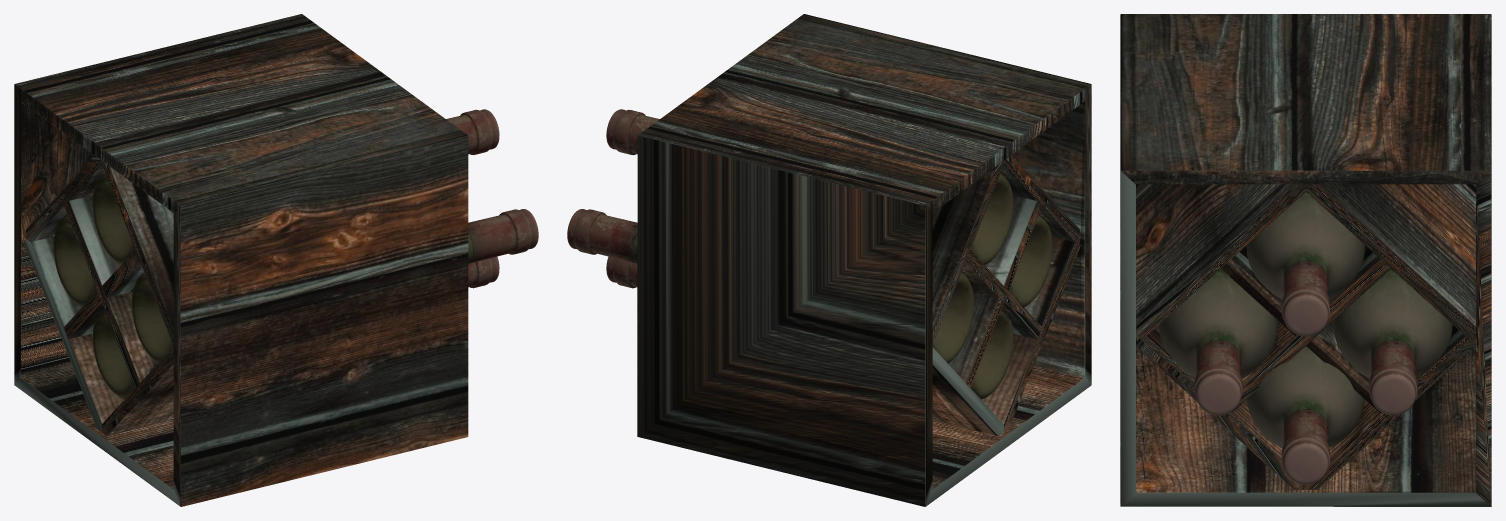
Rendered from Wine1.fbx.
3 renders of one model, left to right at view 1: azimuth 30°, elevation 25°; view 2: azimuth 150°, elevation 25°; view 3: azimuth 270°, elevation 25°, orthographic. The views are drawn at different scales.
Visible parts, largest first — view 1: Rustic Wood Lattice Wine Rack, Окружность.008, Окружность.007, Окружность.009, Окружность, Окружность.005, Окружность.001, Окружность.004; view 2: Rustic Wood Lattice Wine Rack, Окружность.006, Окружность.009, Окружность.007, Окружность, Окружность.005, Окружность.001, Окружность.004; view 3: Rustic Wood Lattice Wine Rack, Окружность.009, Окружность.007, Окружность, Окружность.005, Окружность.001, Окружность.004, Окружность.006, Окружность.008.
Boxes of the visible parts, x1,y1,x2,y2 form: Rustic Wood Lattice Wine Rack: [14, 14, 468, 506]; Окружность.008: [468, 209, 538, 263]; Окружность.007: [53, 215, 97, 306]; Окружность.009: [132, 233, 473, 363]; Окружность: [92, 174, 135, 264]; Окружность.005: [92, 311, 135, 399]; Окружность.001: [446, 109, 499, 154]; Окружность.004: [468, 256, 499, 288]; Rustic Wood Lattice Wine Rack: [637, 14, 1091, 506]; Окружность.006: [567, 209, 637, 263]; Окружность.009: [1009, 215, 1052, 307]; Окружность.007: [632, 233, 974, 363]; Окружность: [970, 174, 1013, 264]; Окружность.005: [970, 311, 1013, 399]; Окружность.001: [606, 109, 659, 155]; Окружность.004: [606, 256, 637, 288]; Rustic Wood Lattice Wine Rack: [1120, 14, 1491, 506]; Окружность.009: [1159, 269, 1277, 378]; Окружность.007: [1334, 269, 1452, 378]; Окружность: [1246, 192, 1365, 299]; Окружность.005: [1247, 346, 1364, 447]; Окружность.001: [1281, 260, 1330, 336]; Окружность.004: [1281, 409, 1330, 484]; Окружность.006: [1369, 339, 1417, 415]; Окружность.008: [1194, 339, 1242, 415].
Bounding box in the file's own units: 46.44 × 34 × 34.
2 materials, 2 textured.
